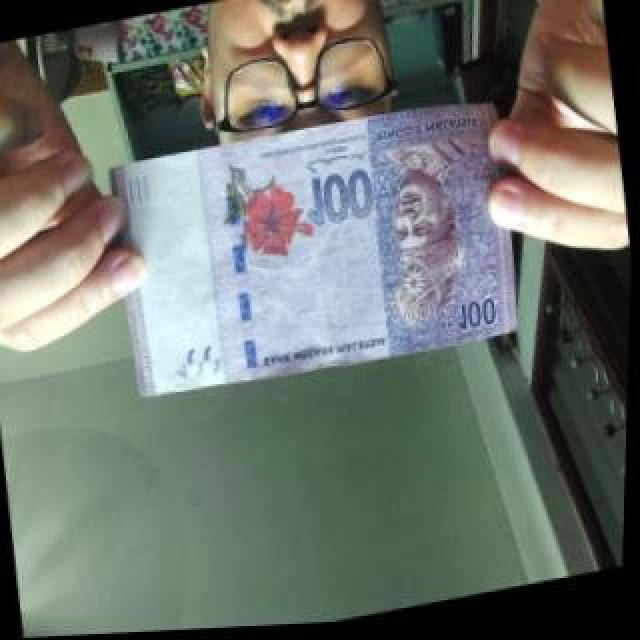100 Ringgit: (90, 94, 531, 416)
